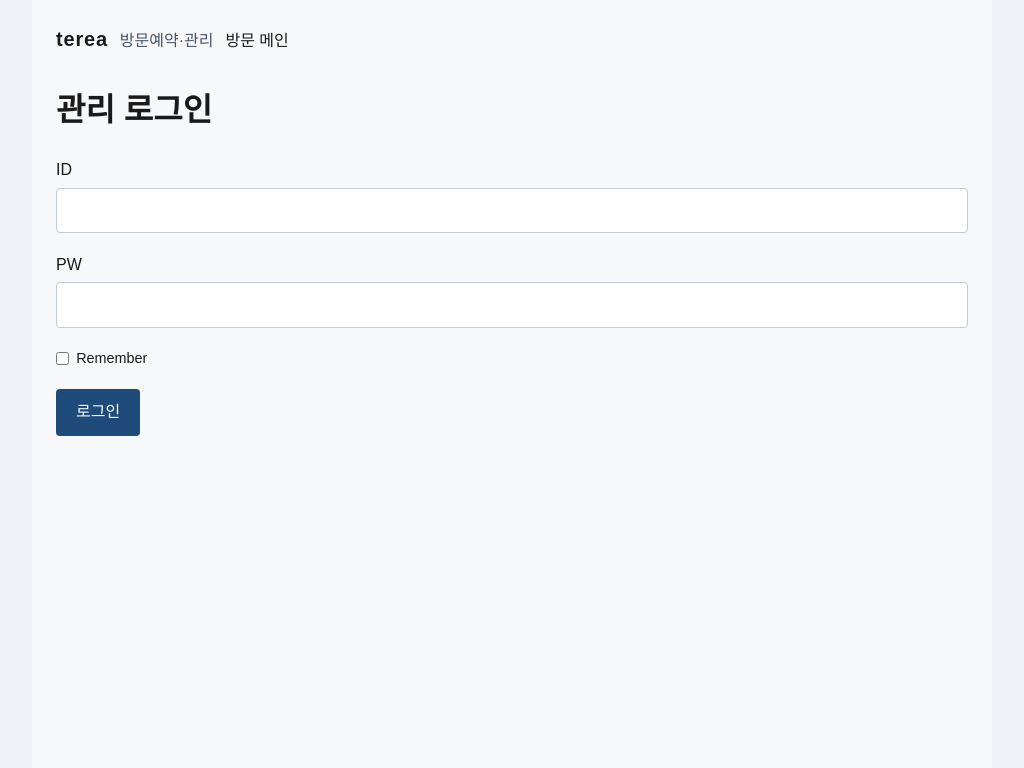
Test: S40: 기초코드 2×2 카드 › 네 패널·원본 컬럼·방문지역 필터가 있다
Type "admin" into the field labelled "ID" at (512, 210), box x1=56 y1=188 x2=968 y2=233
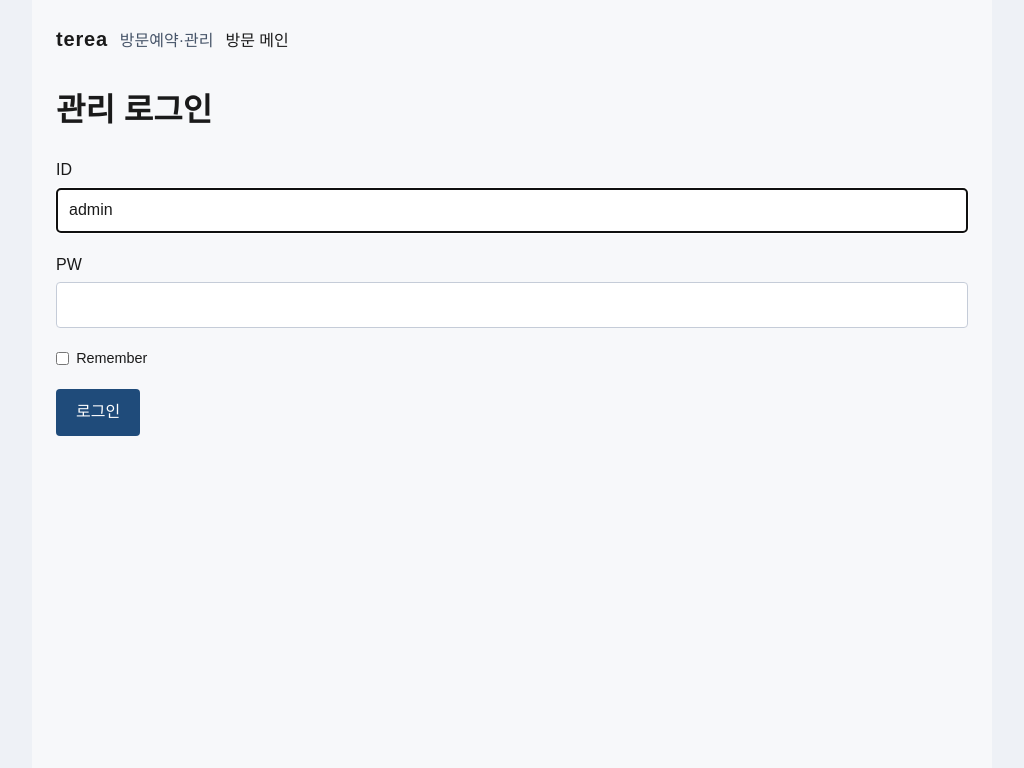
Type "1234" into the password field labelled "PW" at (512, 305), box x1=56 y1=282 x2=968 y2=328
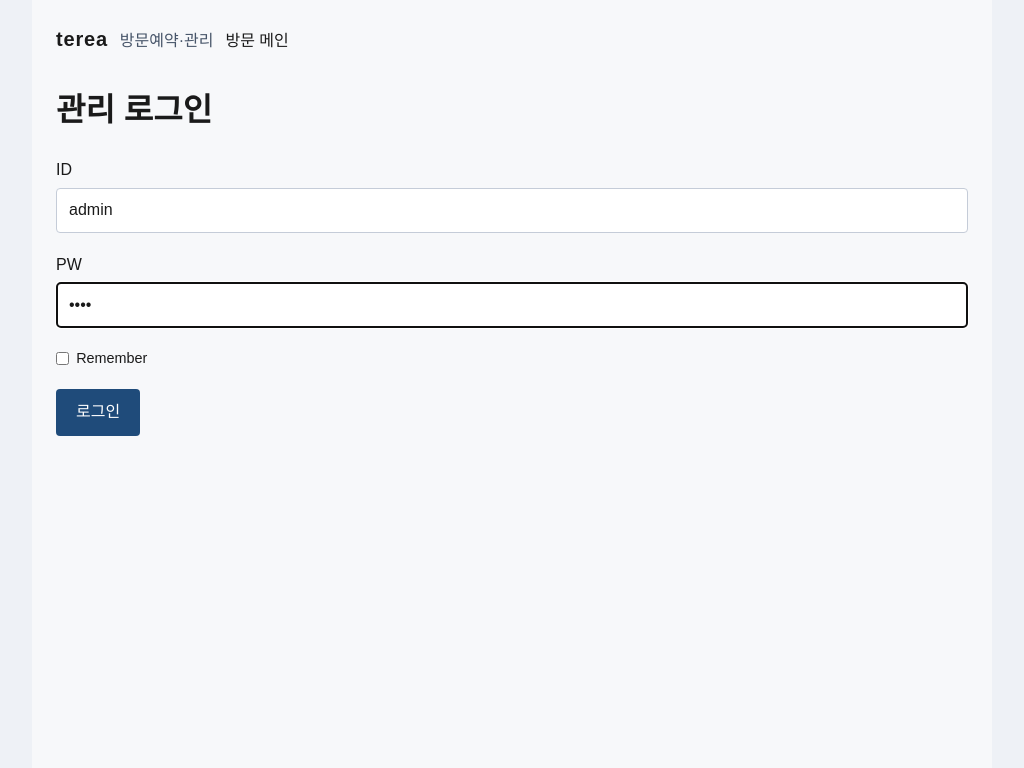
Click the button "로그인" at (98, 412), box x1=56 y1=389 x2=140 y2=436
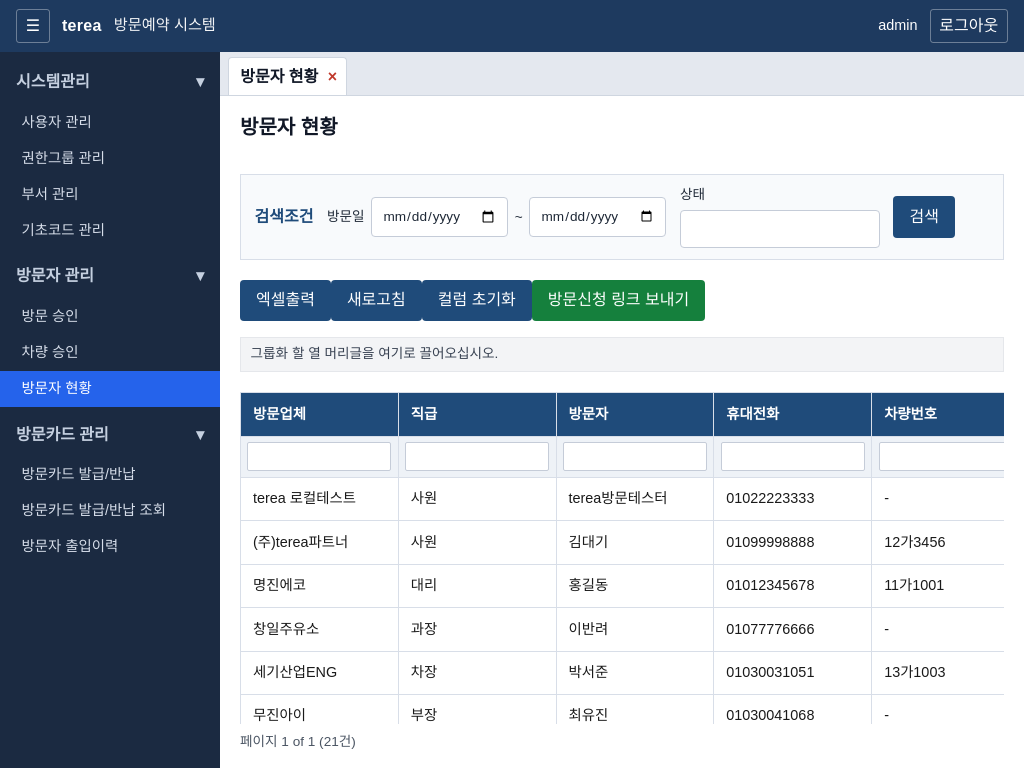
Click the link "기초코드 관리" at (63, 230), box x1=22 y1=222 x2=105 y2=238
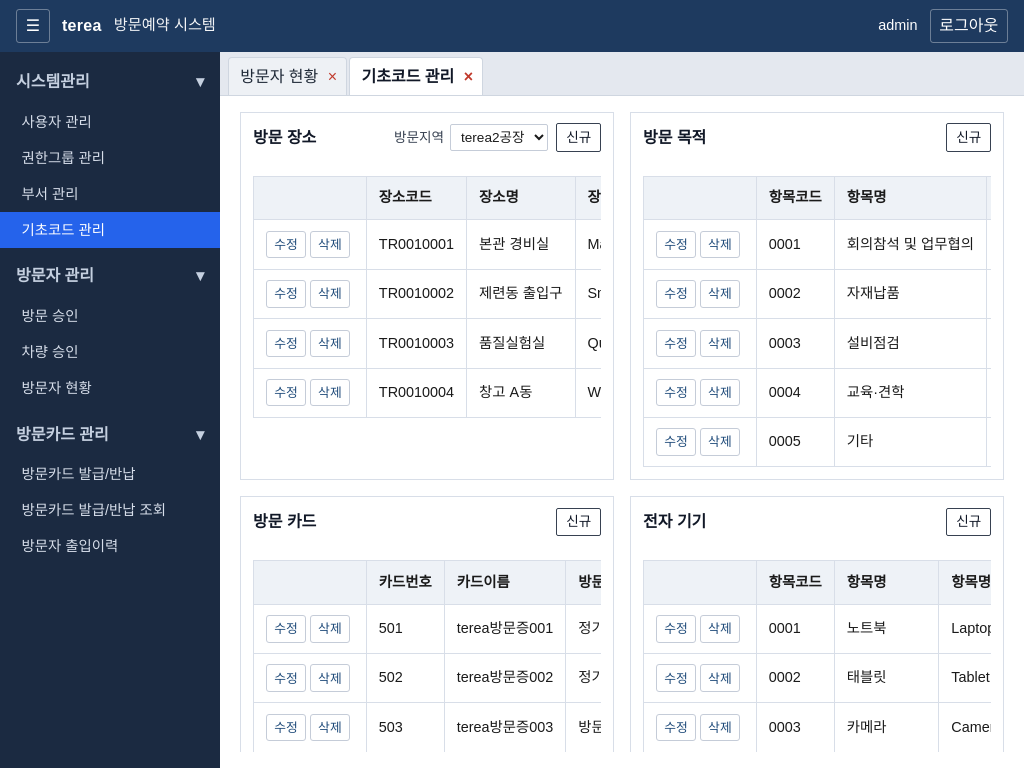
Now the heading "방문 장소" is shown, box x1=253 y1=126 x2=316 y2=150
Now the heading "방문 목적" is shown, box x1=643 y1=126 x2=706 y2=150
Now the heading "방문 카드" is shown, box x1=253 y1=510 x2=316 y2=534
